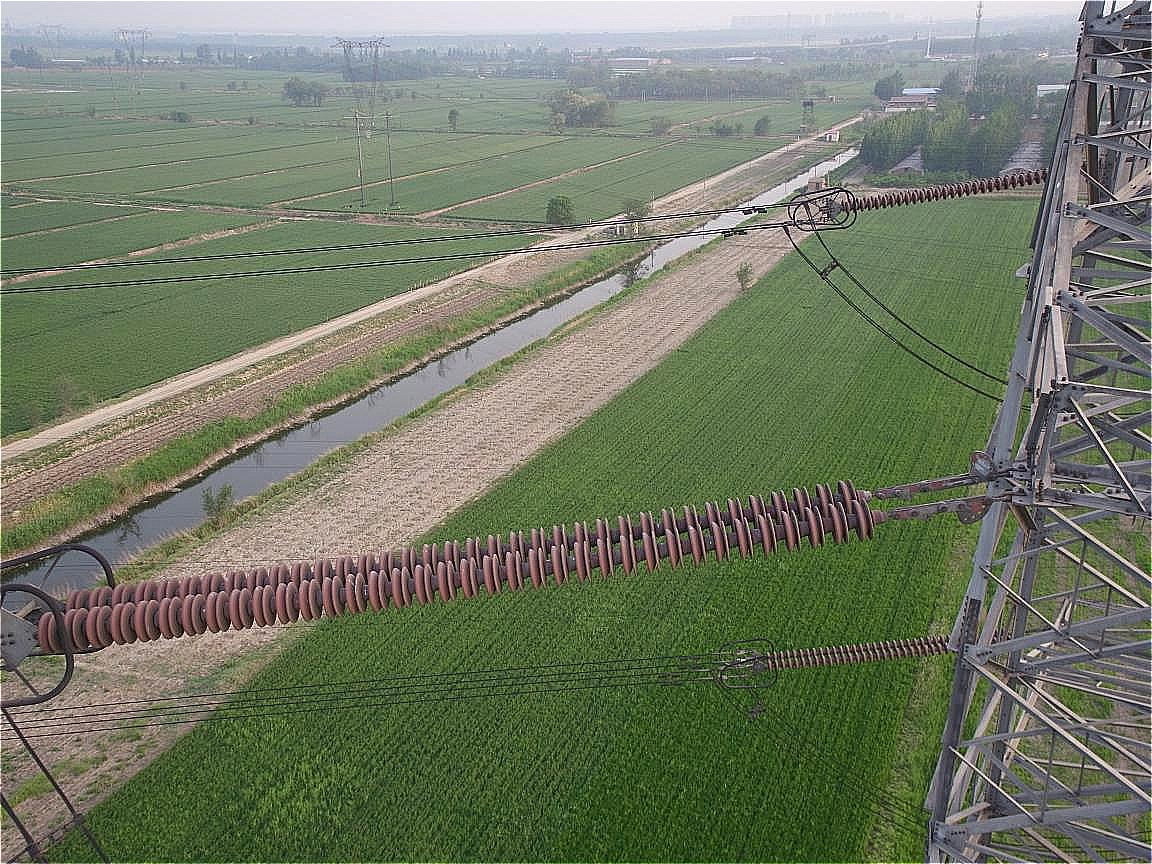insultor1: (827, 157, 1060, 228), (763, 627, 962, 678)
insultor2: (28, 471, 889, 663)
